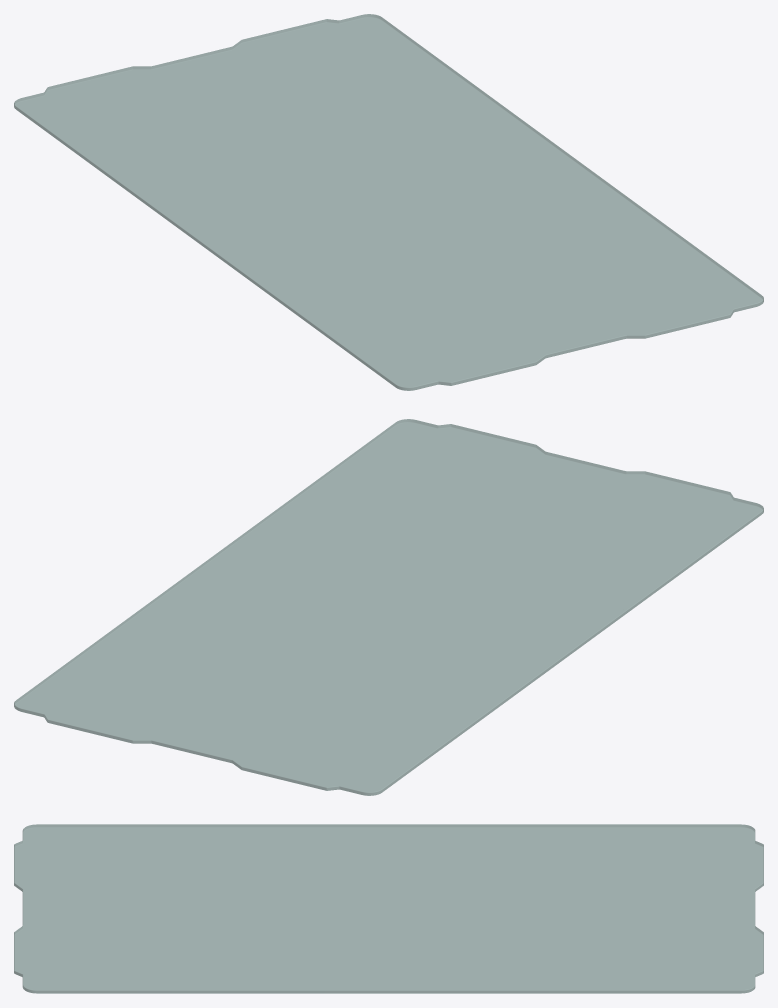
Rendered from Neon_Display_Frame_Glass_01.fbx.
The picture shows the model from 3 angles, top to bottom: view 1: azimuth 30°, elevation 25°; view 2: azimuth 150°, elevation 25°; view 3: azimuth 270°, elevation 25°; orthographic projection. The views are drawn at different scales.
Visible parts, largest first — view 1: Neon_Display_Frame_Glass_01; view 2: Neon_Display_Frame_Glass_01; view 3: Neon_Display_Frame_Glass_01.
Part boxes in pixels (x1,y1,x2,y2): Neon_Display_Frame_Glass_01: [14, 14, 763, 390]; Neon_Display_Frame_Glass_01: [14, 419, 763, 795]; Neon_Display_Frame_Glass_01: [14, 824, 763, 993].
Size of the model in its own units: 1.52 by 0.015 by 2.9.
